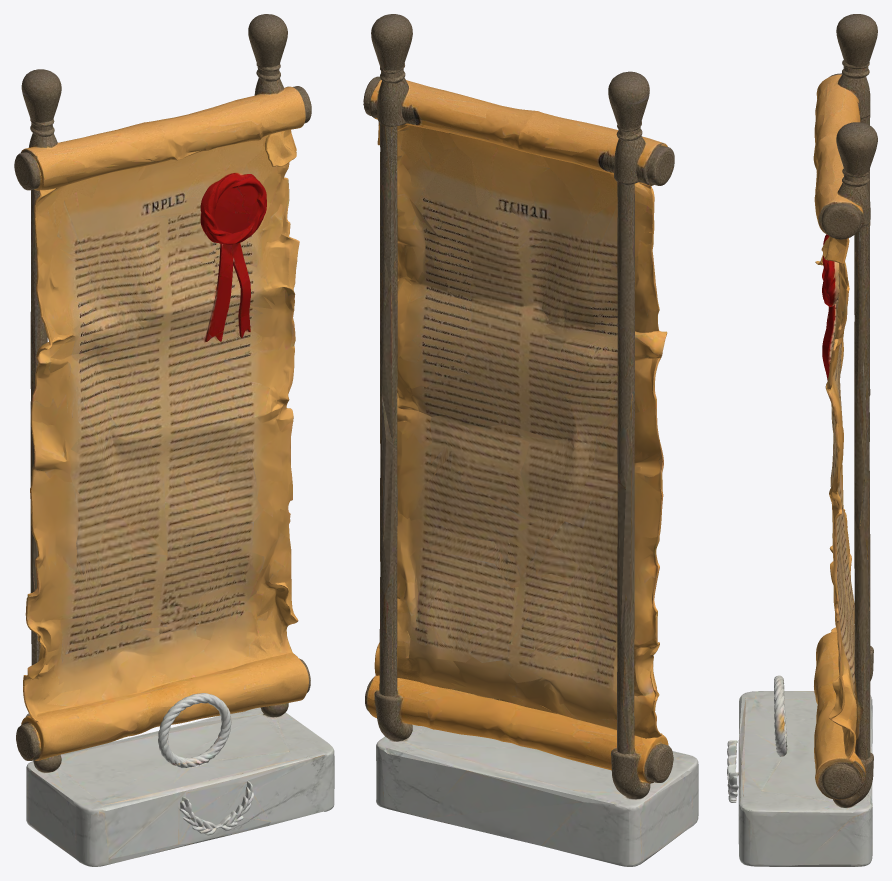
Rendered from statue-resume.glb.
3 views of the same model, side by side, from view 1: azimuth 30°, elevation 25°; view 2: azimuth 150°, elevation 25°; view 3: azimuth 270°, elevation 25° (orthographic). The views are drawn at different scales.
Size of the model in its own units: 0.7457 by 1.9 by 0.3531.
Materials: 1 (1 with a texture image).
